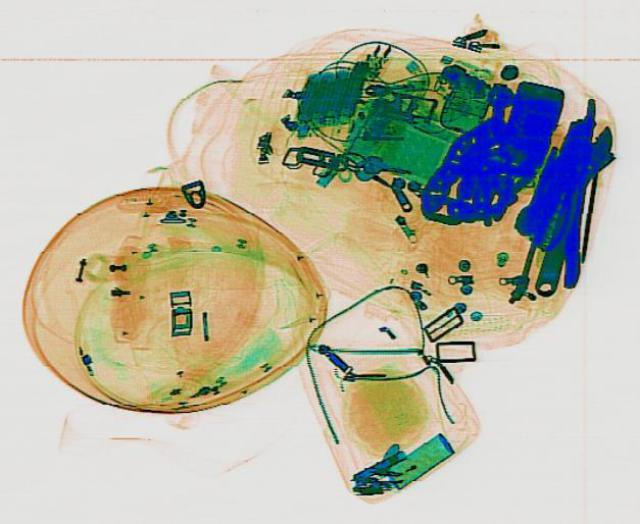Wrench: (517, 115, 617, 298)
